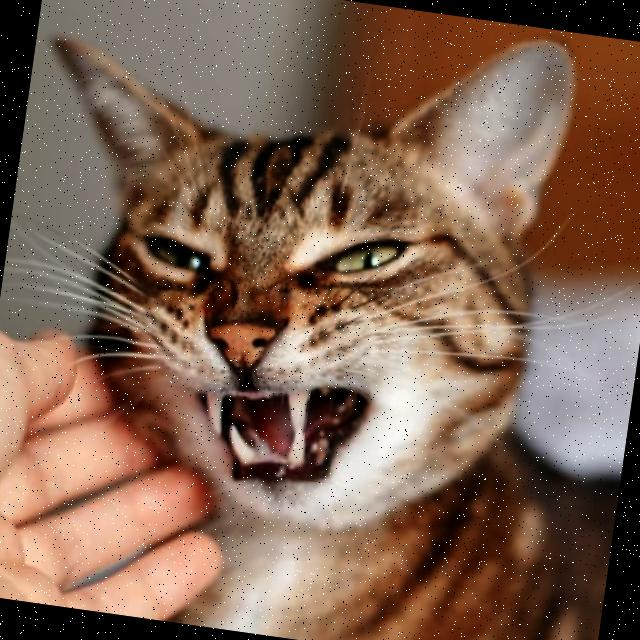Angry: (70, 192, 452, 541)
